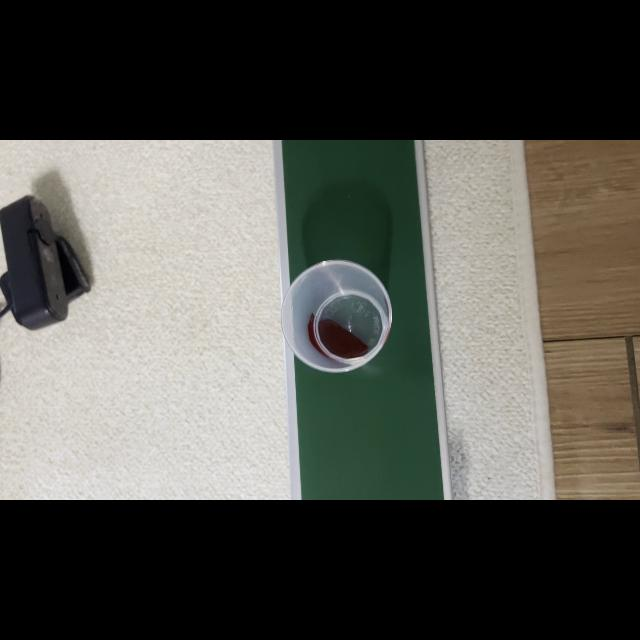dirty: (274, 252, 398, 376)
